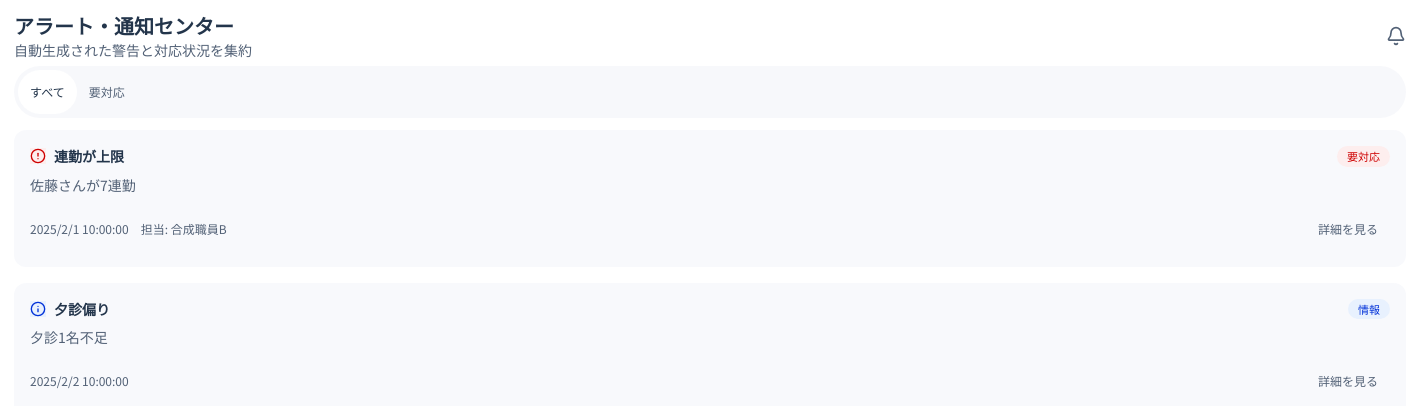
AlertCenterCard › filters alerts when switching to critical view
Check: the text "連勤が上限" is shown, box [54,146,124,166]
Check: the text "夕診偏り" is shown, box [54,298,110,318]
Click the button "要対応": (107,92) [77,70,137,114]
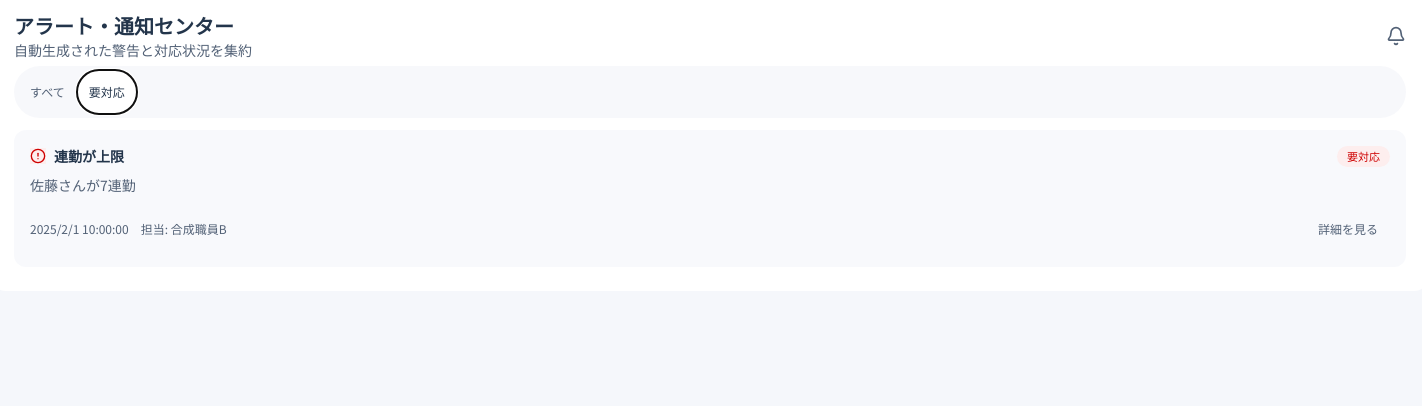
Check: the text "連勤が上限" is shown, box [54,146,124,166]
Check: the text "夕診偏り" is gone
